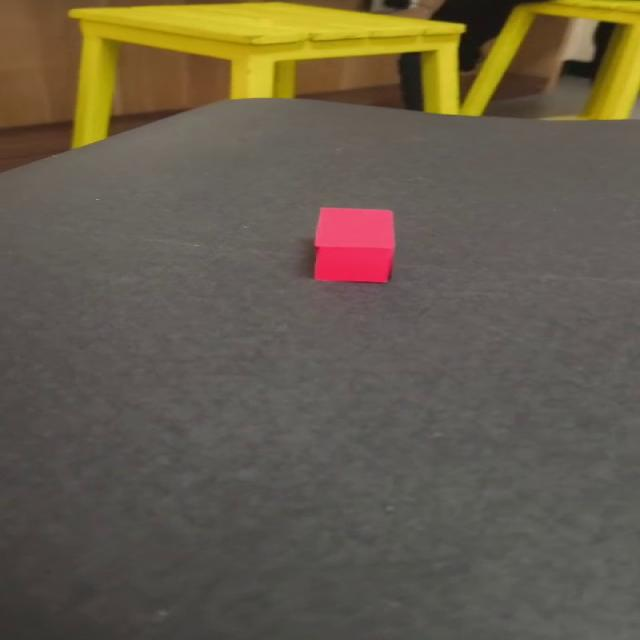red block: (311, 206, 396, 283)
